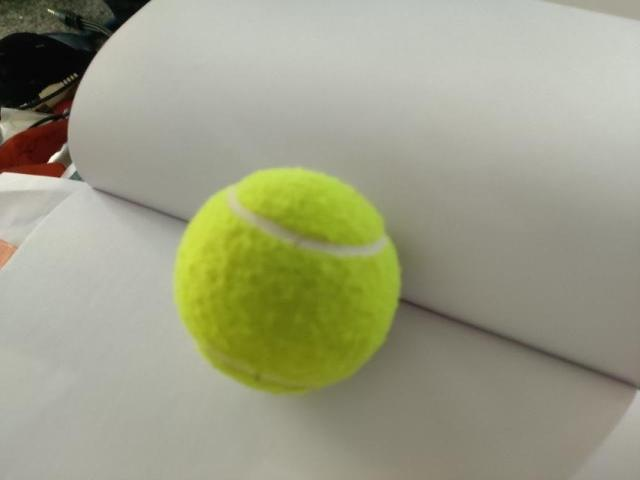tennis-ball: (172, 167, 403, 396)
